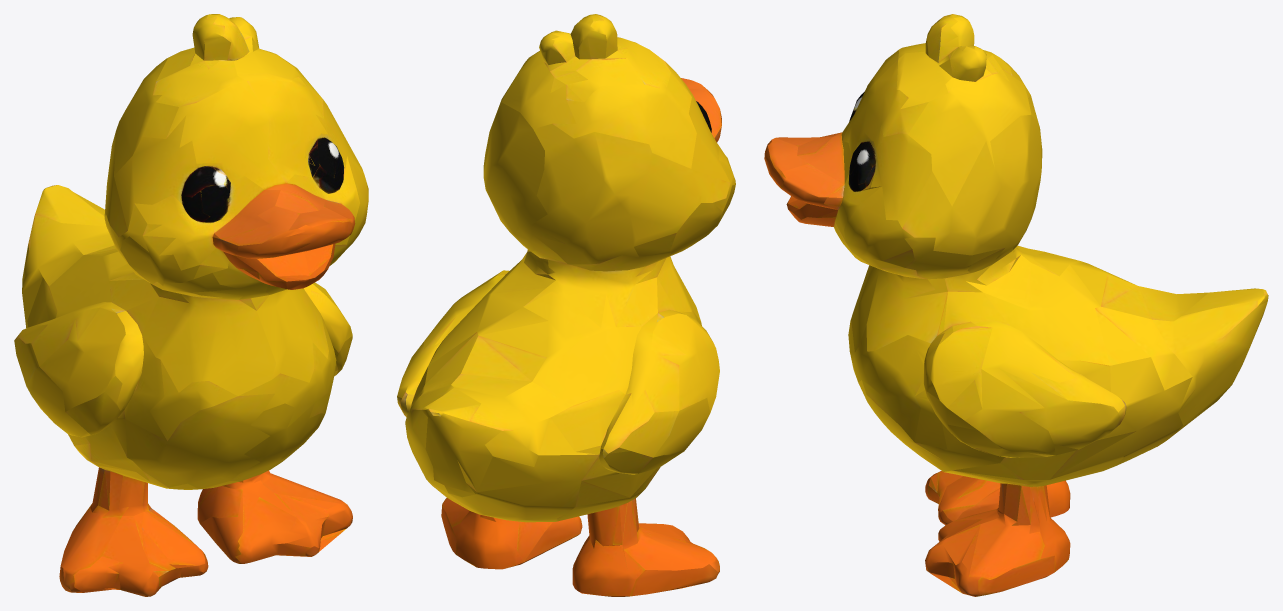
Rendered from duck.glb.
The picture shows the model from 3 angles, left to right: view 1: azimuth 30°, elevation 25°; view 2: azimuth 150°, elevation 25°; view 3: azimuth 270°, elevation 25°; orthographic projection. The views are drawn at different scales.
Size of the model in its own units: 1.03 by 1.9 by 1.68.
1 material, 1 textured.
